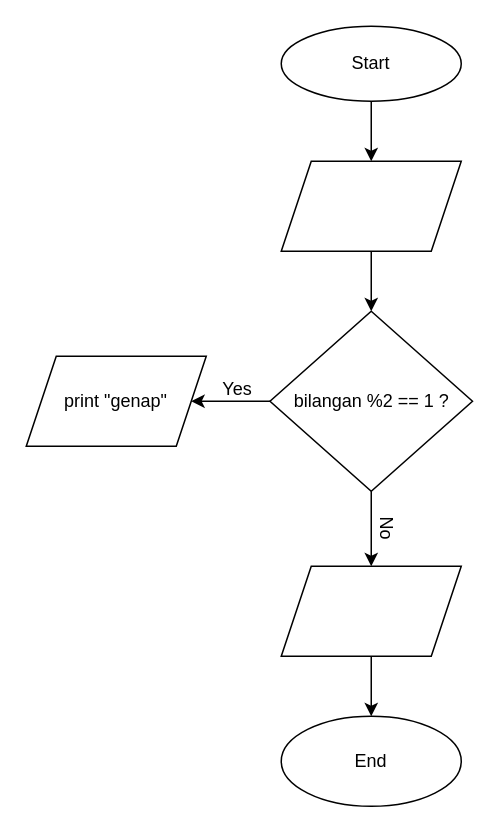
This 500x833 diagram has some shape labels left out. The box of each missing label's shape, as (x1, y1, x2, y2) in pixels:
input bilangan: (280, 160, 461, 251)
print "tidak prima": (280, 565, 461, 656)
